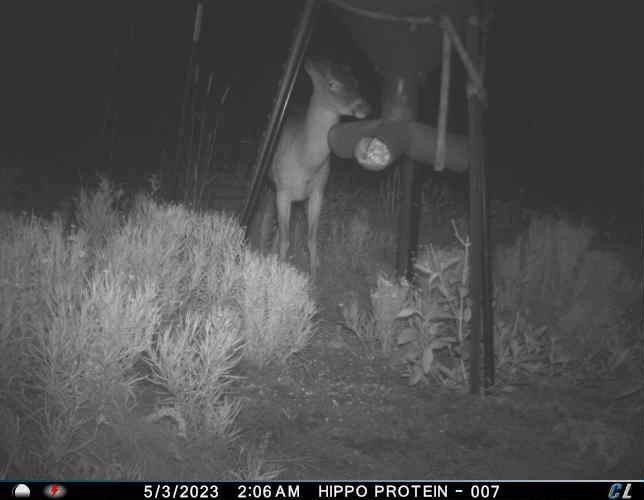Deer: (269, 54, 373, 279)
